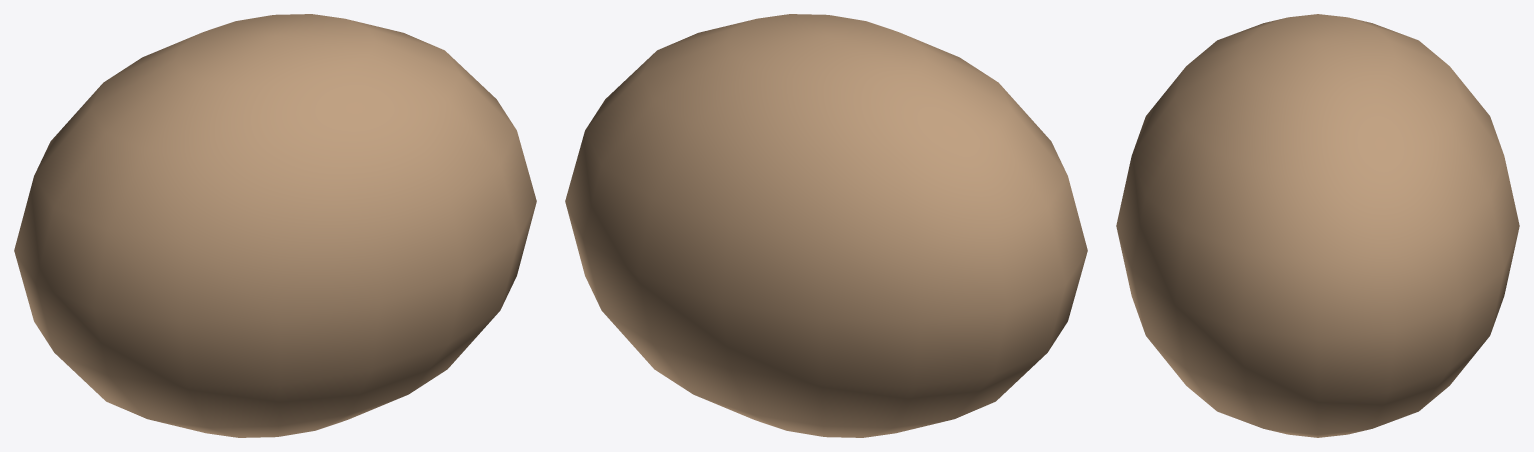
Rendered from egg.mobile.glb.
3 views of the same model, side by side, from view 1: azimuth 30°, elevation 25°; view 2: azimuth 150°, elevation 25°; view 3: azimuth 270°, elevation 25° (orthographic). The views are drawn at different scales.
Parts seen in each view (by area): view 1: Egg; view 2: Egg; view 3: Egg.
Boxes of the visible parts, box(x1,y1,x2,y2) form: Egg: box(14, 14, 536, 437); Egg: box(565, 14, 1087, 437); Egg: box(1116, 14, 1519, 437).
Size of the model in its own units: 0.0581 by 0.044 by 0.044.
